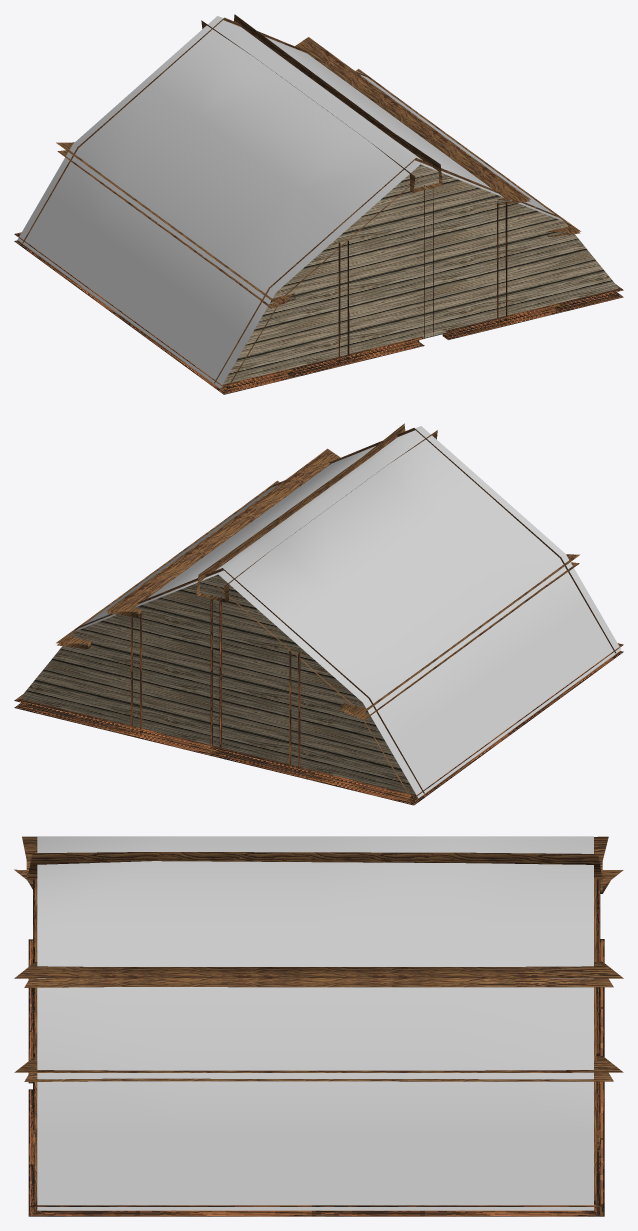
The model's file is LAKETOWN_WAREHOUSE3_PS_WH3_ROOF1_94948__GX.obj.
3 views of the same model, one above another, from view 1: azimuth 30°, elevation 25°; view 2: azimuth 150°, elevation 25°; view 3: azimuth 270°, elevation 25° (orthographic). The views are drawn at different scales.
Parts seen in each view (by area): view 1: Roof1_94948__GX; view 2: Roof1_94948__GX; view 3: Roof1_94948__GX.
Boxes of the visible parts, <box> form: Roof1_94948__GX: <box>14,14,623,394</box>; Roof1_94948__GX: <box>14,423,623,805</box>; Roof1_94948__GX: <box>14,836,623,1216</box>.
Bounding box in the file's own units: 2037 × 877 × 1947.
